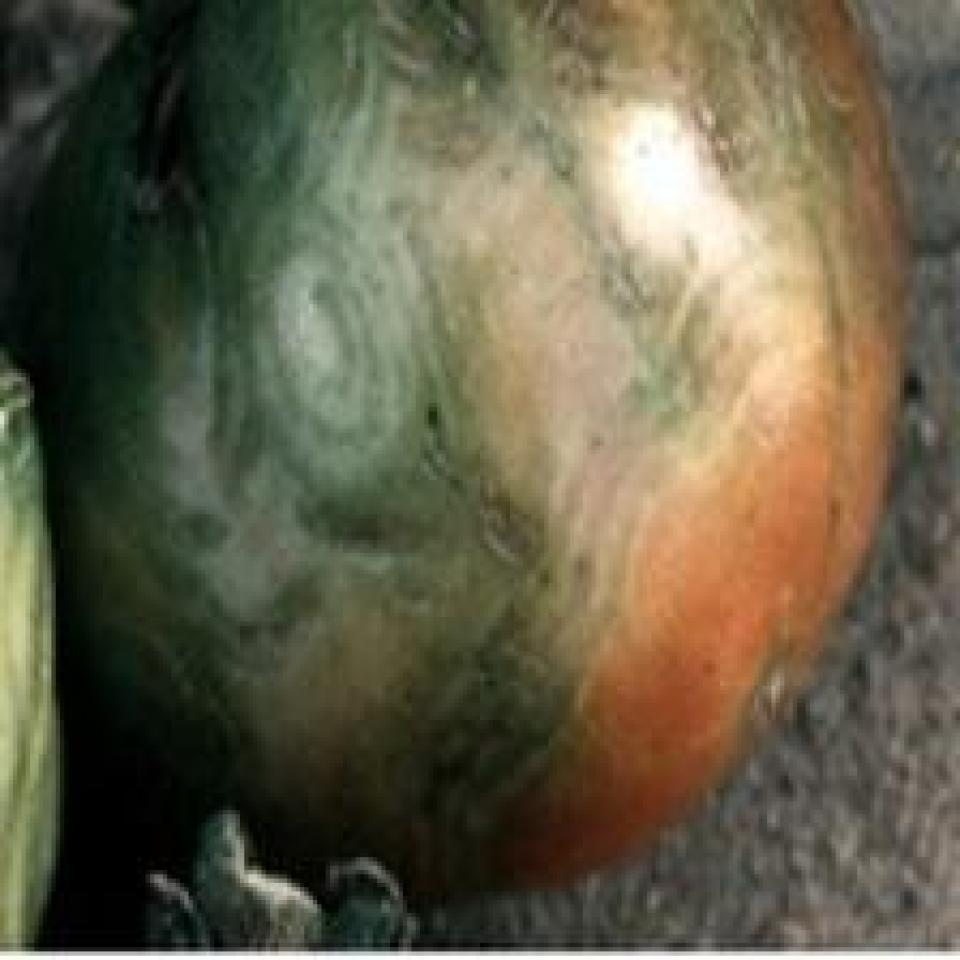Spotted wilt Virus: (29, 0, 904, 904)
